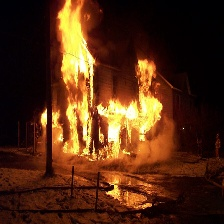fire: (39, 5, 166, 157)
